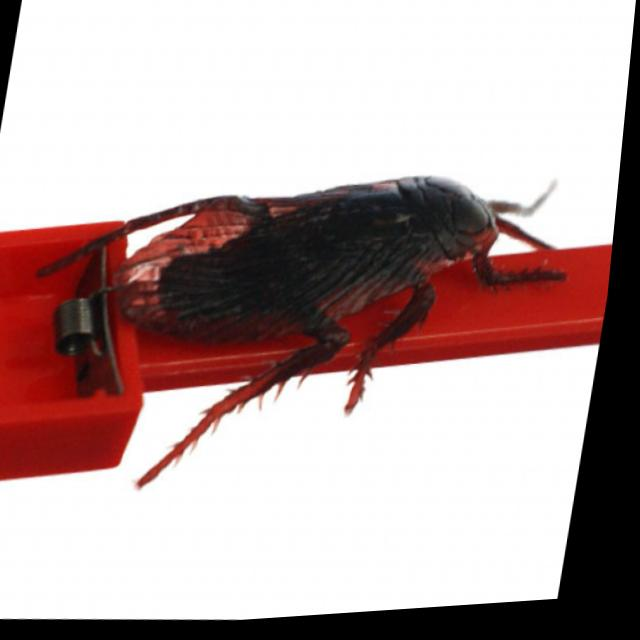Cockroach: (0, 132, 598, 543)
